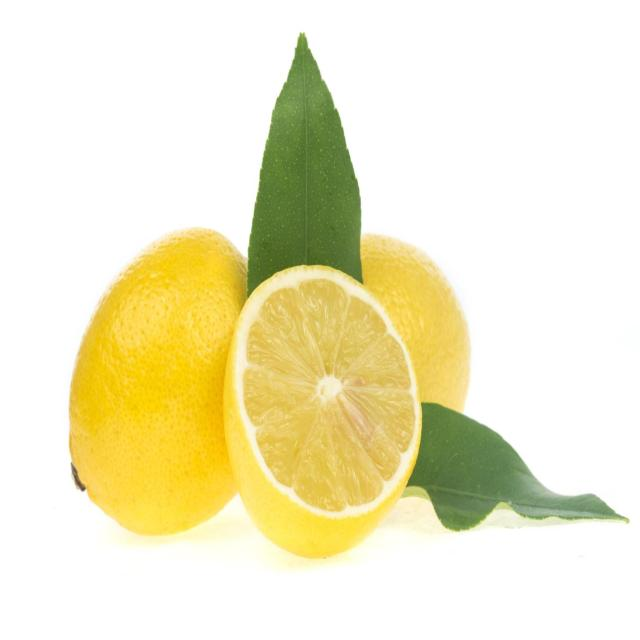lemon: (216, 254, 424, 561), (61, 218, 247, 548)
